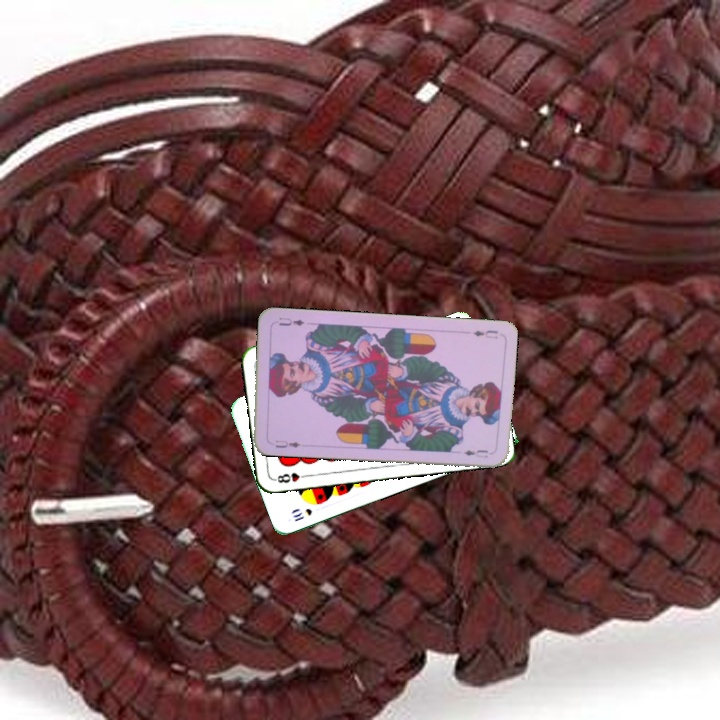EU: (469, 326, 500, 341), (271, 436, 303, 450)
H8: (270, 469, 311, 486)
S10: (289, 504, 315, 524)
